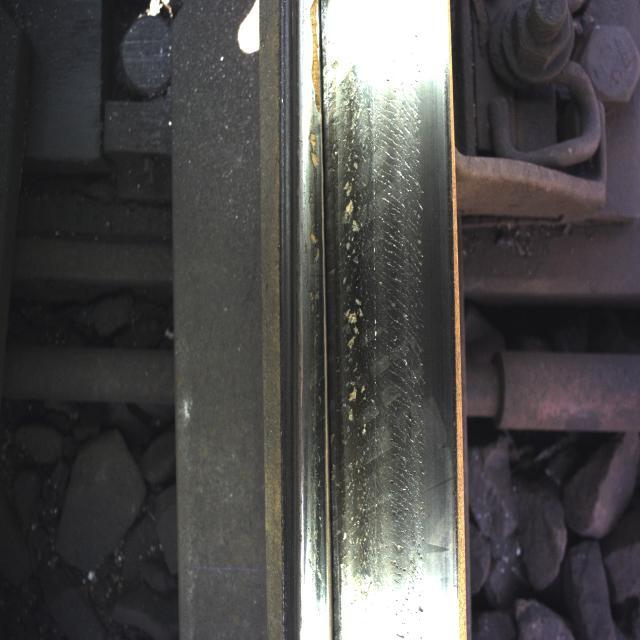scar: (324, 39, 425, 590)
